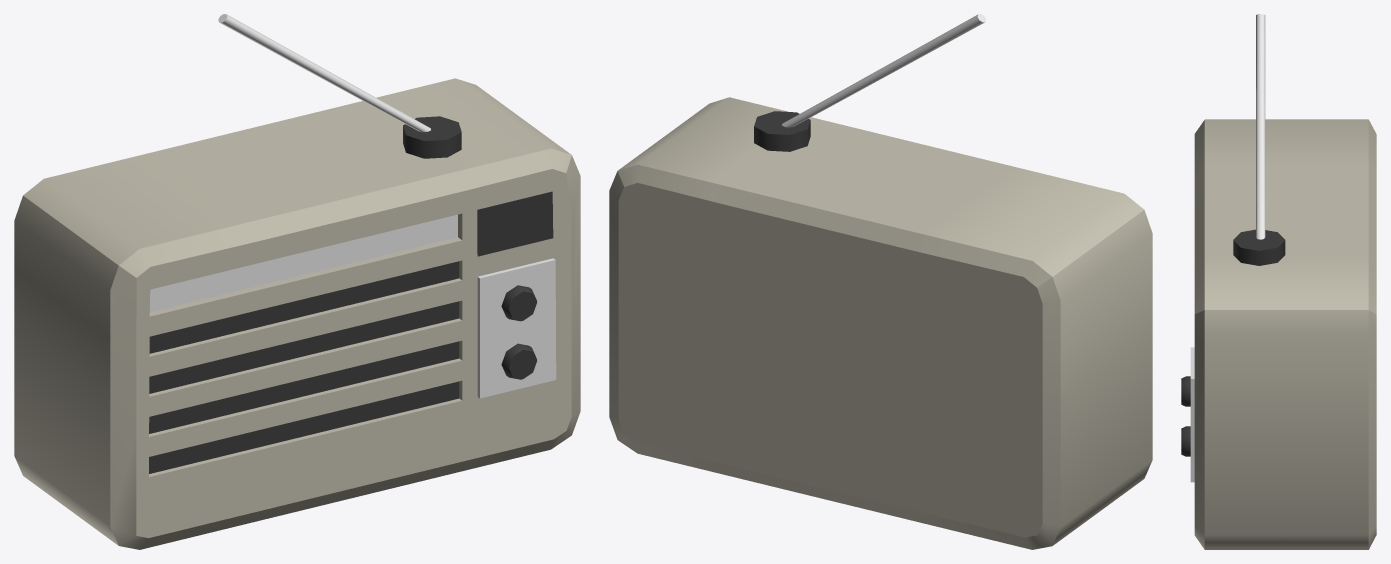
File: Radio_01.fbx
The picture shows the model from 3 angles, left to right: view 1: azimuth 30°, elevation 25°; view 2: azimuth 150°, elevation 25°; view 3: azimuth 270°, elevation 25°; orthographic projection. The views are drawn at different scales.
Visible parts, largest first — view 1: Radio_01; view 2: Radio_01; view 3: Radio_01.
Boxes of the visible parts, box(x1,y1,x2,y2) form: Radio_01: box(14, 14, 580, 549); Radio_01: box(609, 14, 1152, 549); Radio_01: box(1181, 14, 1376, 549).
Size of the model in its own units: 0.3262 by 0.3199 by 0.1369.
